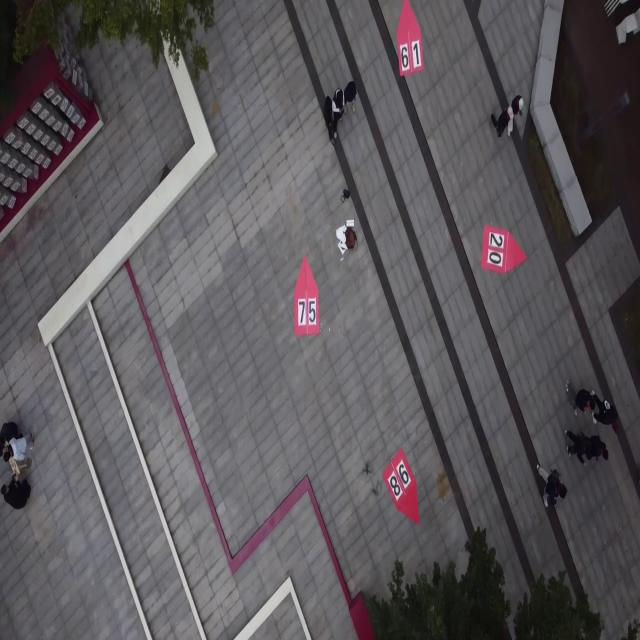-sign-: (381, 441, 427, 541), (290, 250, 326, 347), (476, 218, 530, 281), (396, 2, 432, 82)
